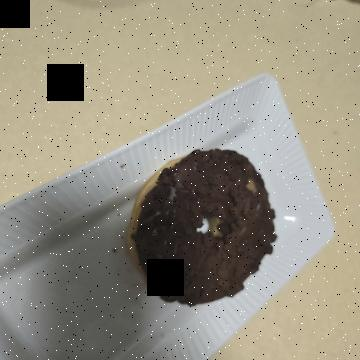doughnut: (117, 75, 313, 254)
